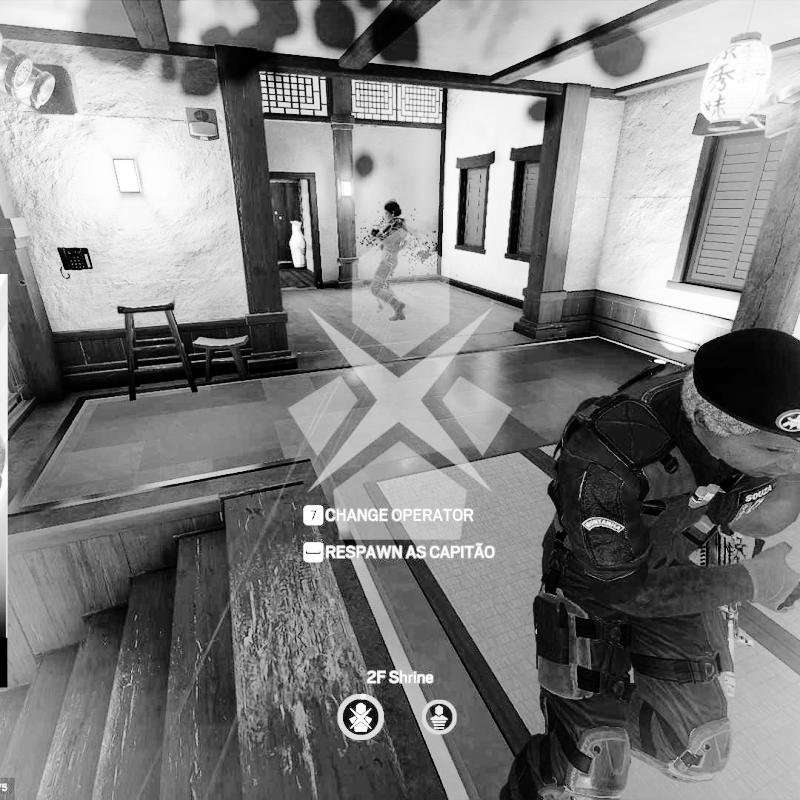Character: (501, 325, 800, 800), (367, 198, 412, 322)
Head: (684, 328, 800, 480), (382, 198, 403, 220)
